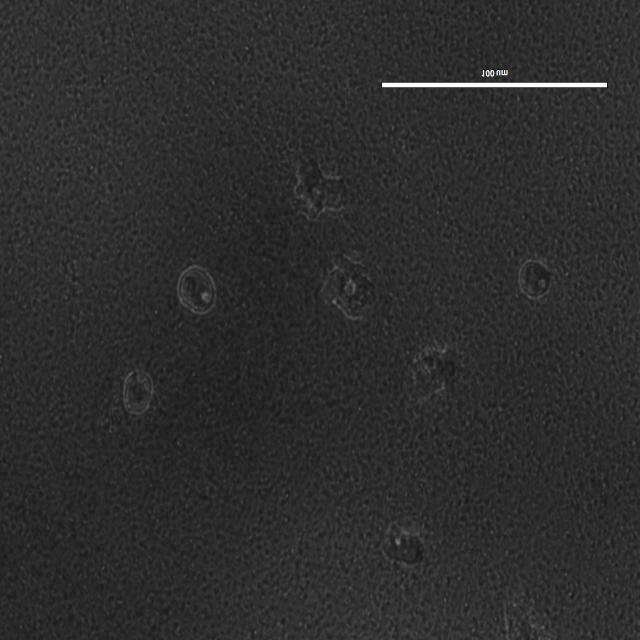Amoeba: (321, 244, 378, 319), (292, 152, 351, 220), (402, 344, 454, 402), (179, 264, 217, 316), (383, 522, 425, 568), (501, 599, 547, 640), (516, 257, 555, 302), (125, 371, 155, 416)
